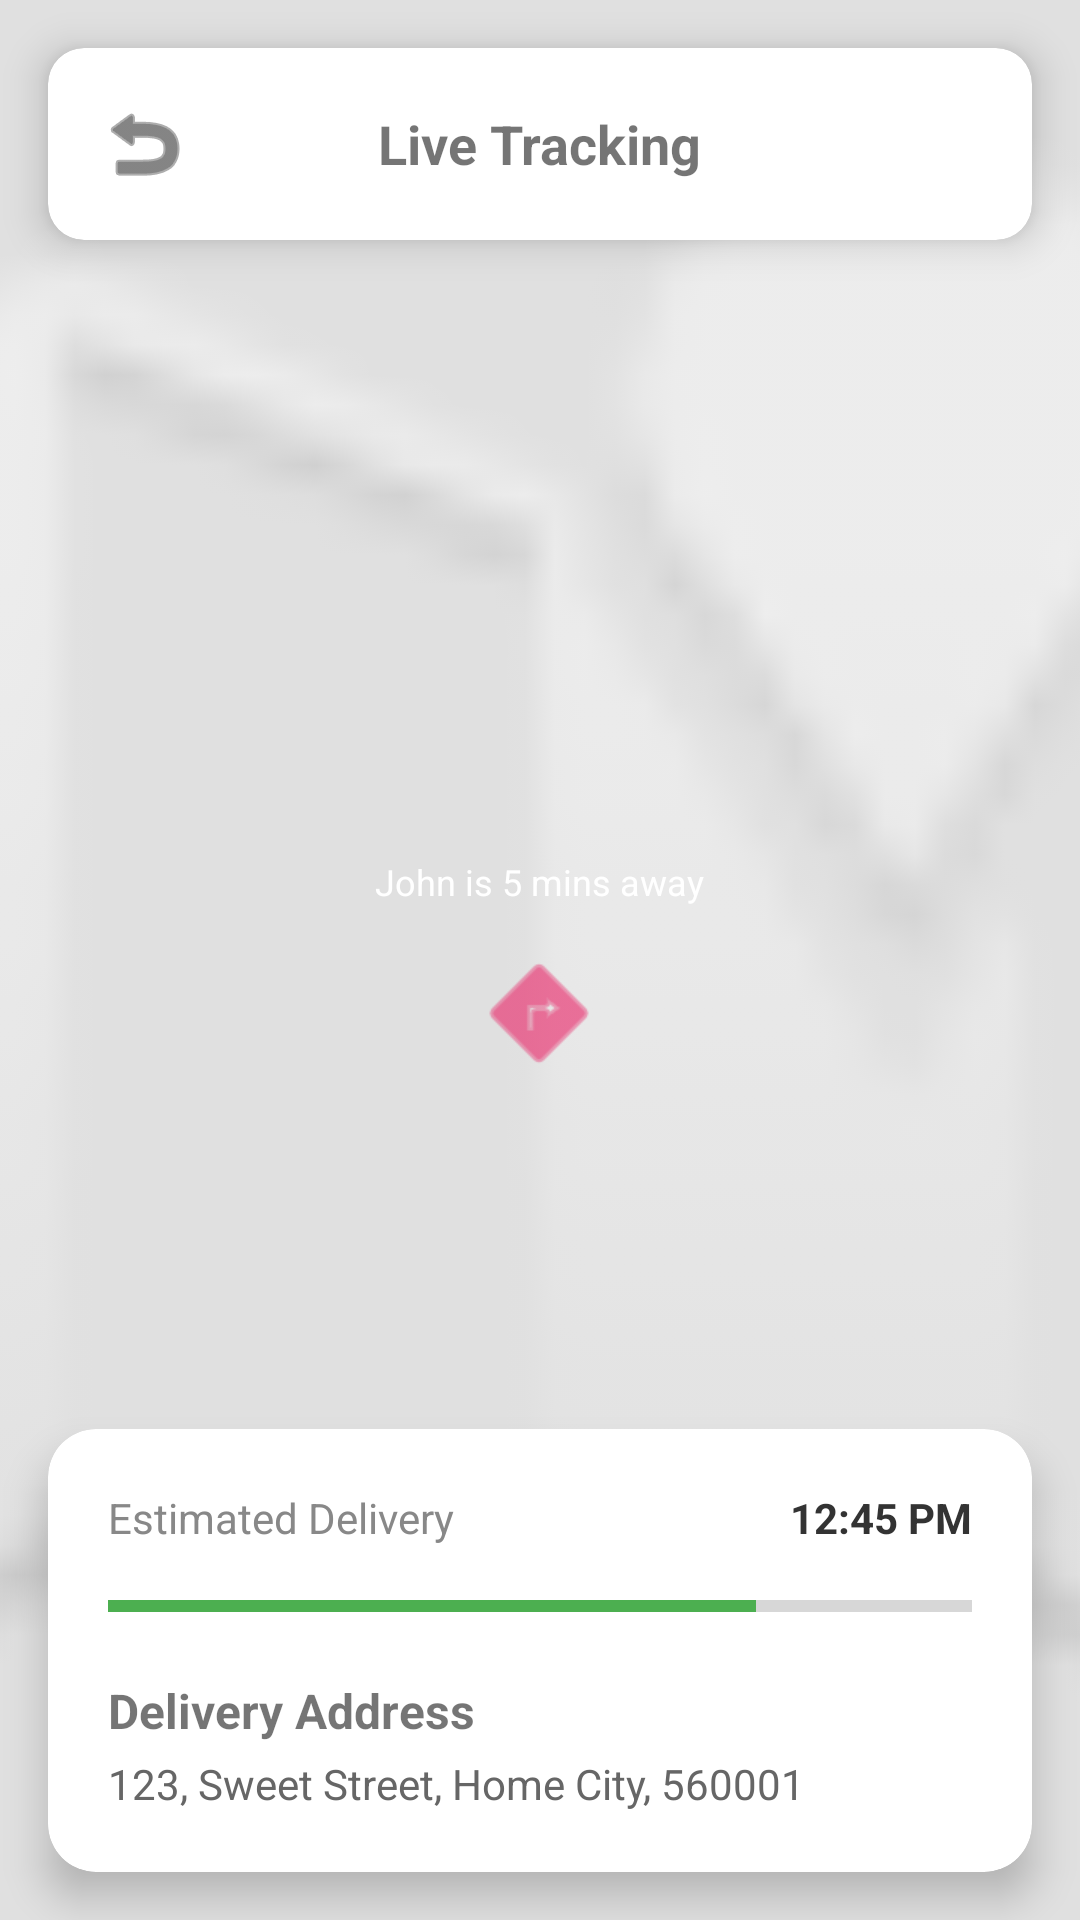

Locate icon controls on the screen. Image size 1080 × 1920, boxes as (x1, y1, x2, y2).
directions: (489, 964, 588, 1062)
revert: (111, 113, 180, 176)
